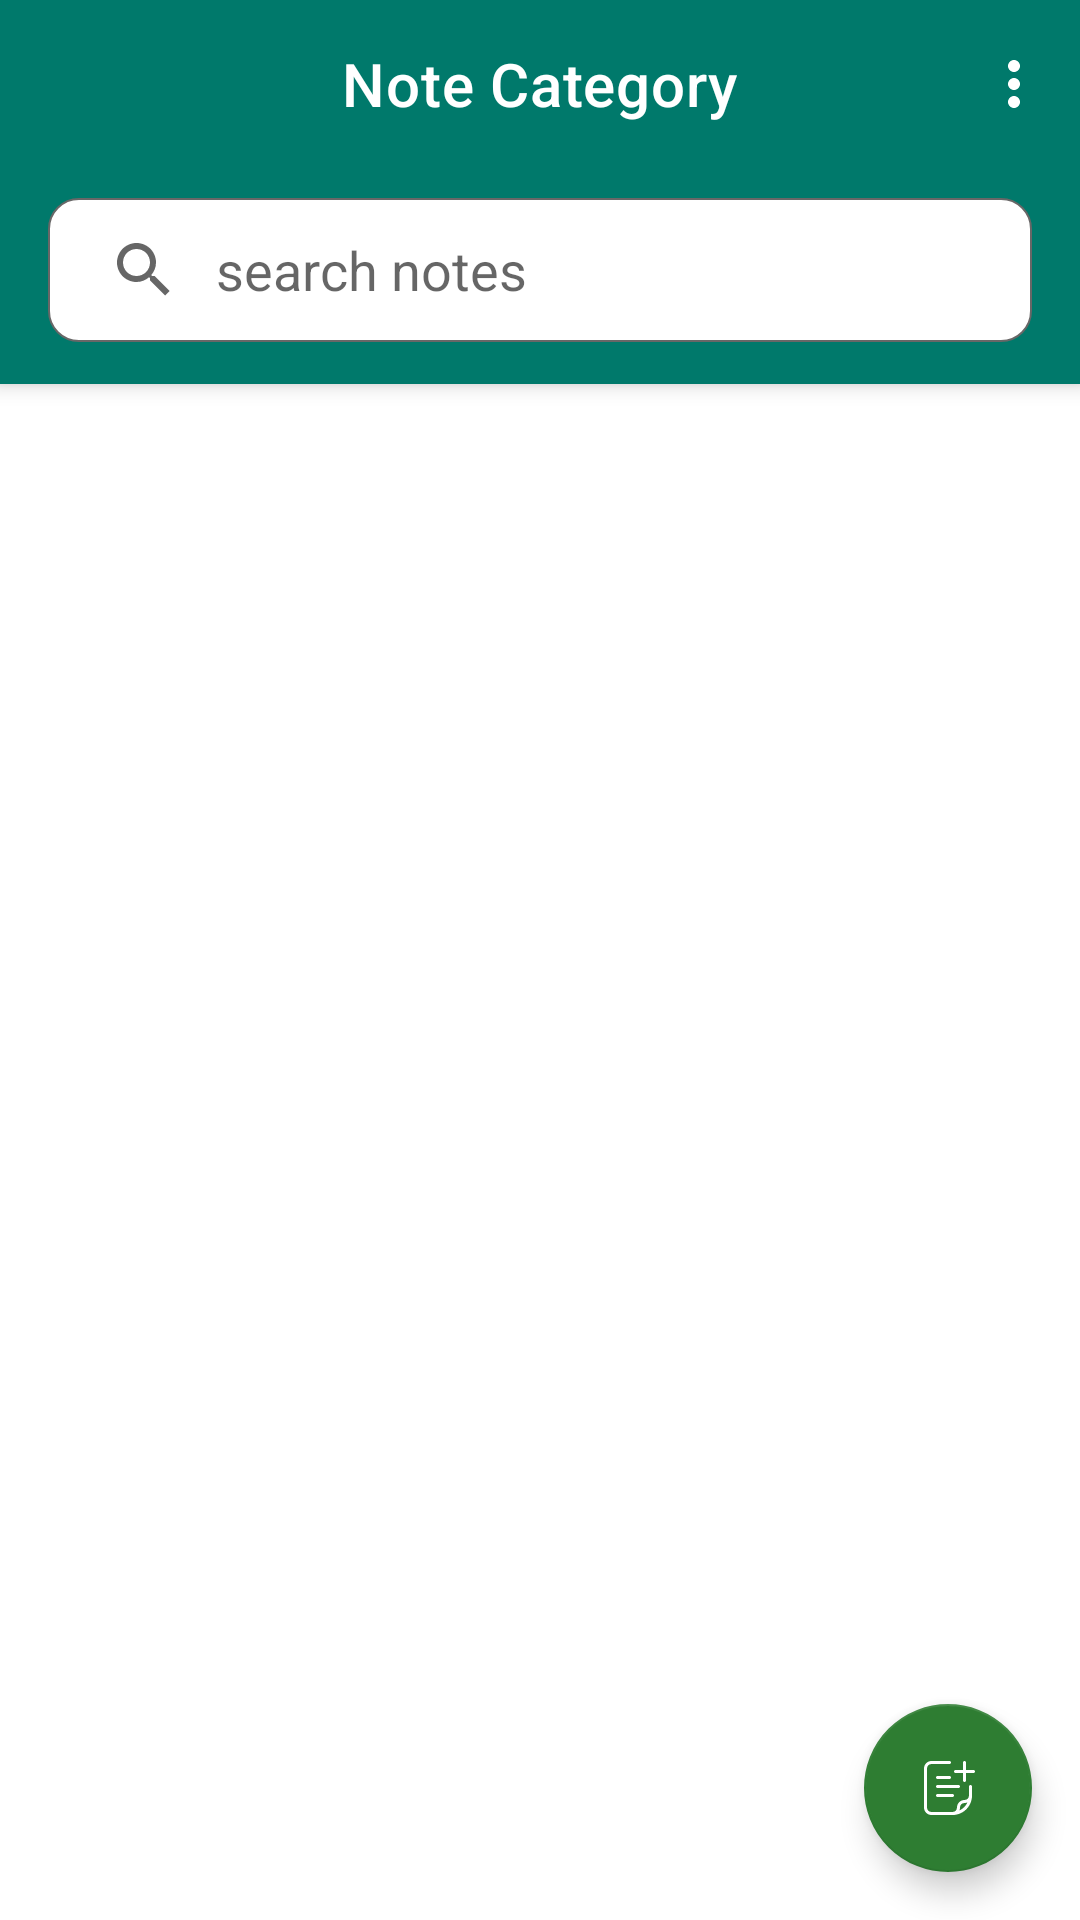

Named icons in this screenshot (1080px×1920px) and their bounding boxes, bbox=(x1, y1, x2, y2):
Add new note to current category: bbox=(864, 1704, 1032, 1872)
